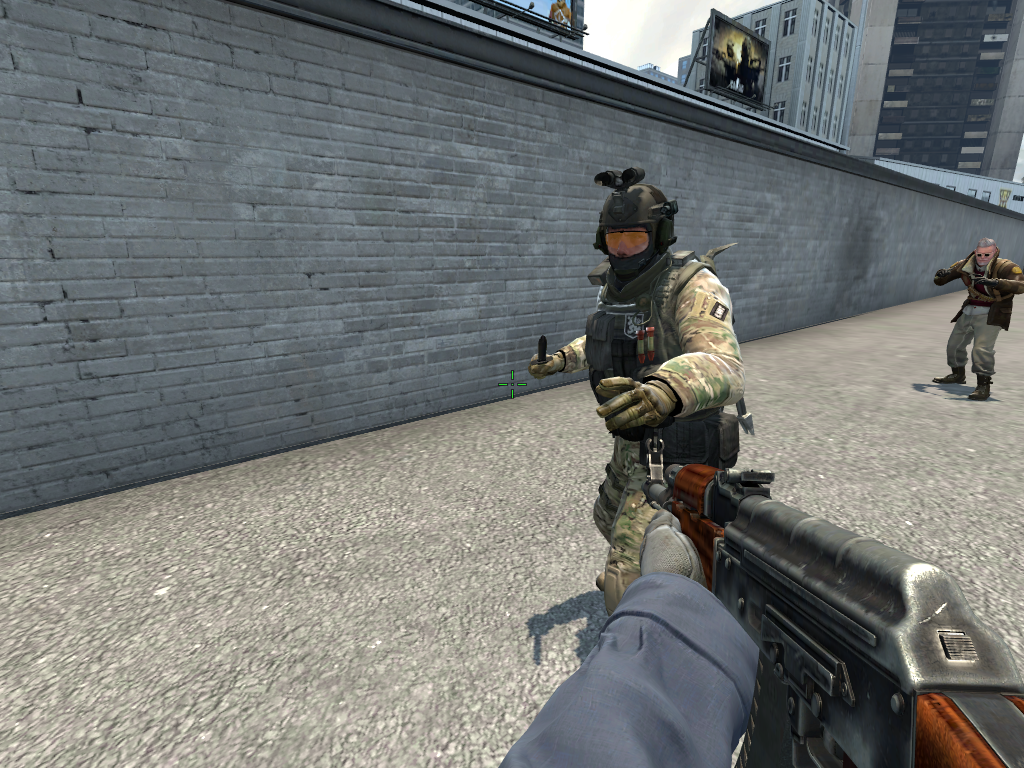ct head: (608, 192, 664, 272)
tr head: (975, 241, 995, 265)
